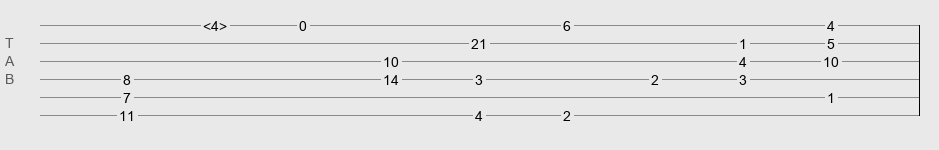0: (299, 18, 307, 28)
1: (739, 36, 747, 46), (827, 90, 835, 100)
10: (383, 54, 399, 64), (823, 54, 839, 64)
11: (119, 108, 135, 118)
14: (383, 72, 399, 82)
2: (563, 108, 571, 118), (651, 72, 659, 82)
21: (471, 36, 487, 46)
3: (475, 72, 483, 82), (739, 72, 747, 82)
4: (475, 108, 483, 118), (739, 54, 747, 64), (827, 18, 835, 28)
5: (827, 36, 835, 46)
6: (563, 18, 571, 28)
7: (123, 90, 131, 100)
8: (123, 72, 131, 82)
harmonic: (203, 18, 227, 28)
